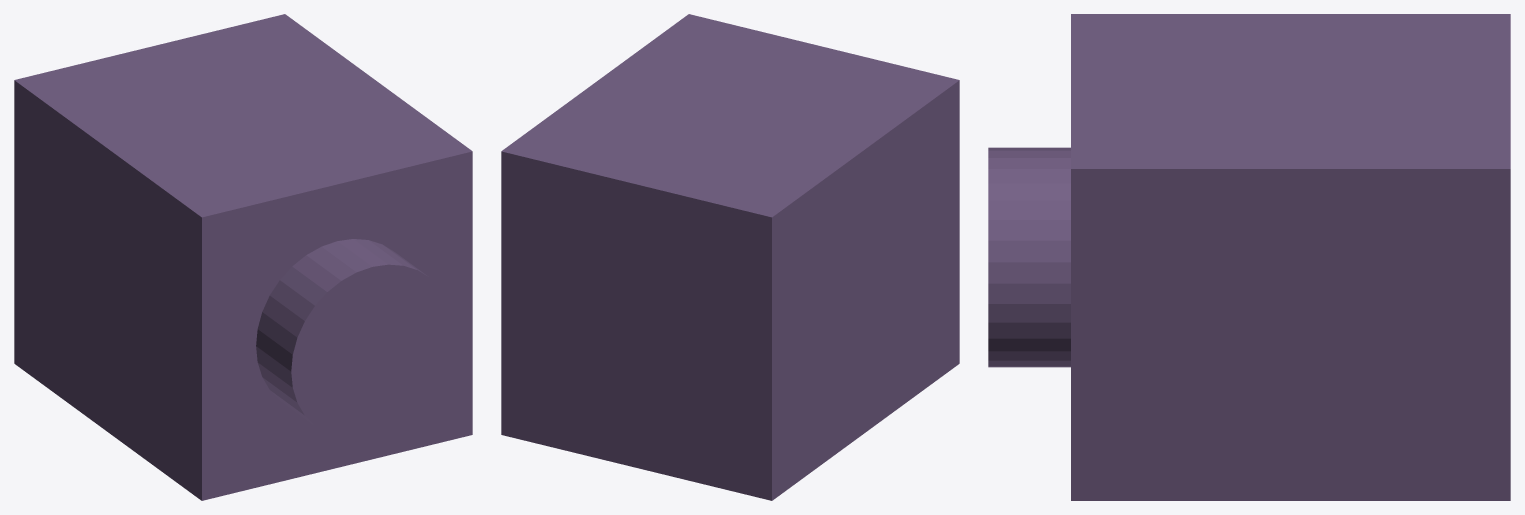
The model's file is brick_0.glb.
3 renders of one model, left to right at view 1: azimuth 30°, elevation 25°; view 2: azimuth 150°, elevation 25°; view 3: azimuth 270°, elevation 25°, orthographic. The views are drawn at different scales.
Parts seen in each view (by area): view 1: world; view 2: world; view 3: world.
Part boxes in pixels (x1,y1,x2,y2): world: (14,14,472,500); world: (501,14,959,500); world: (988,14,1510,500).
Bounding box in the file's own units: 8 × 8 × 11.4.
